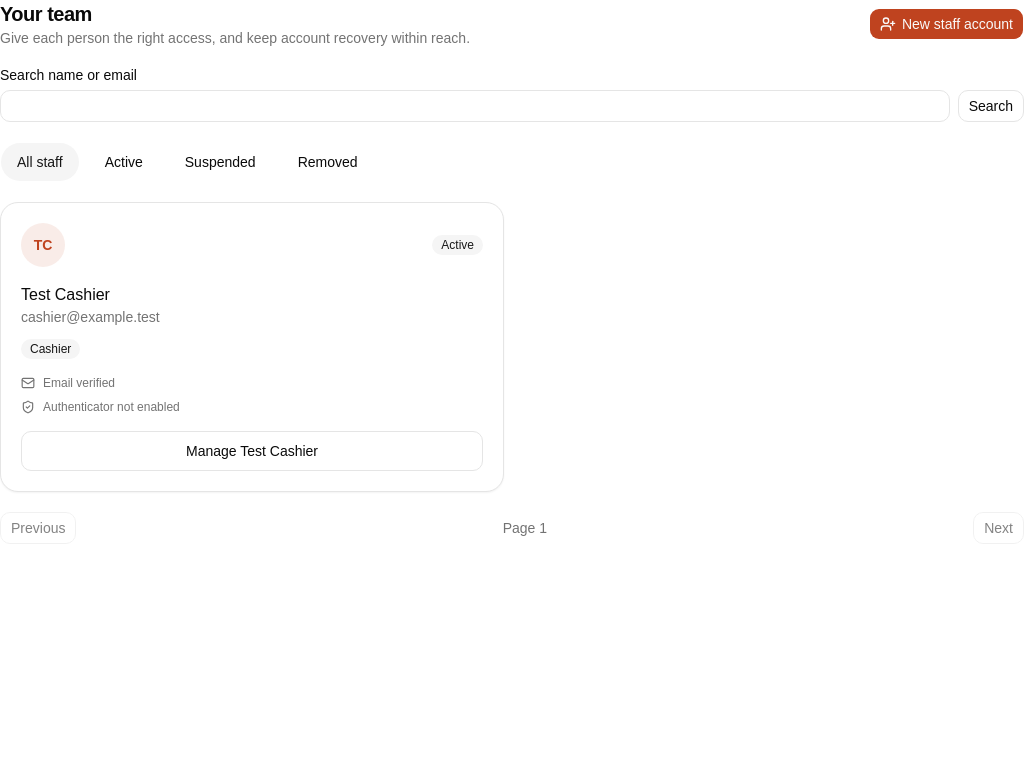
Scenario: requests a recovery link without sending an account update or claiming delivery
This screenshot has width=1024, height=768.
Click the button "Manage Test Cashier" at [252, 451], box [21,431,483,471]
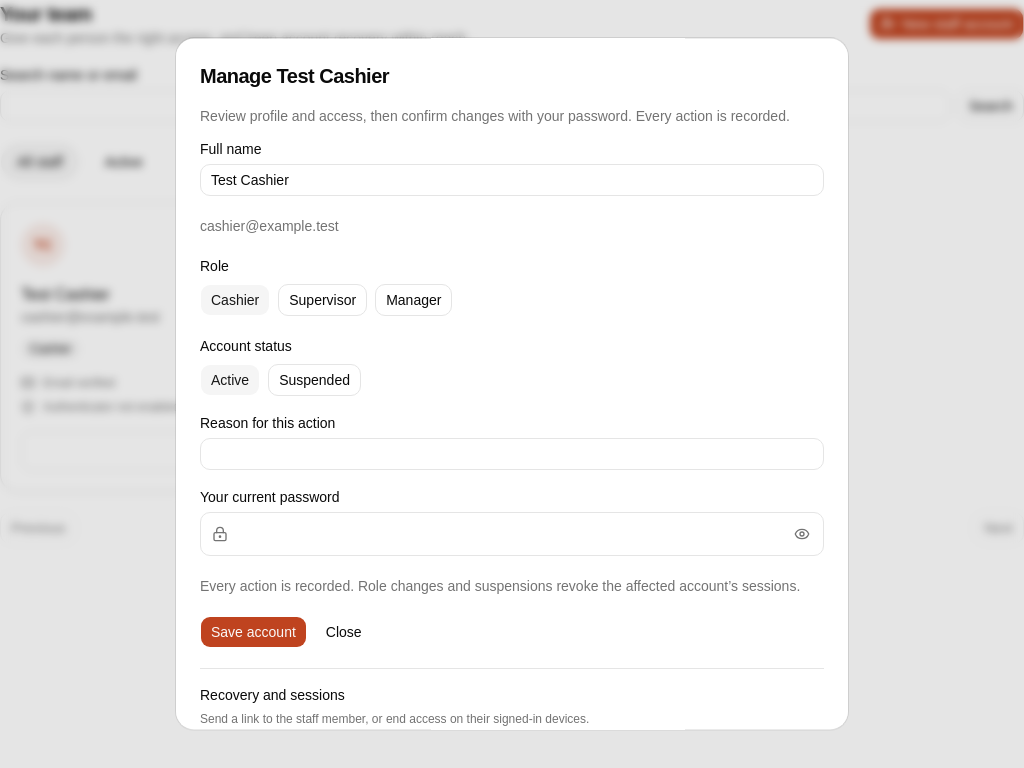
Type "Staff password recovery" into the field labelled "Reason for this action" at [512, 454], box [200,438,824,470]
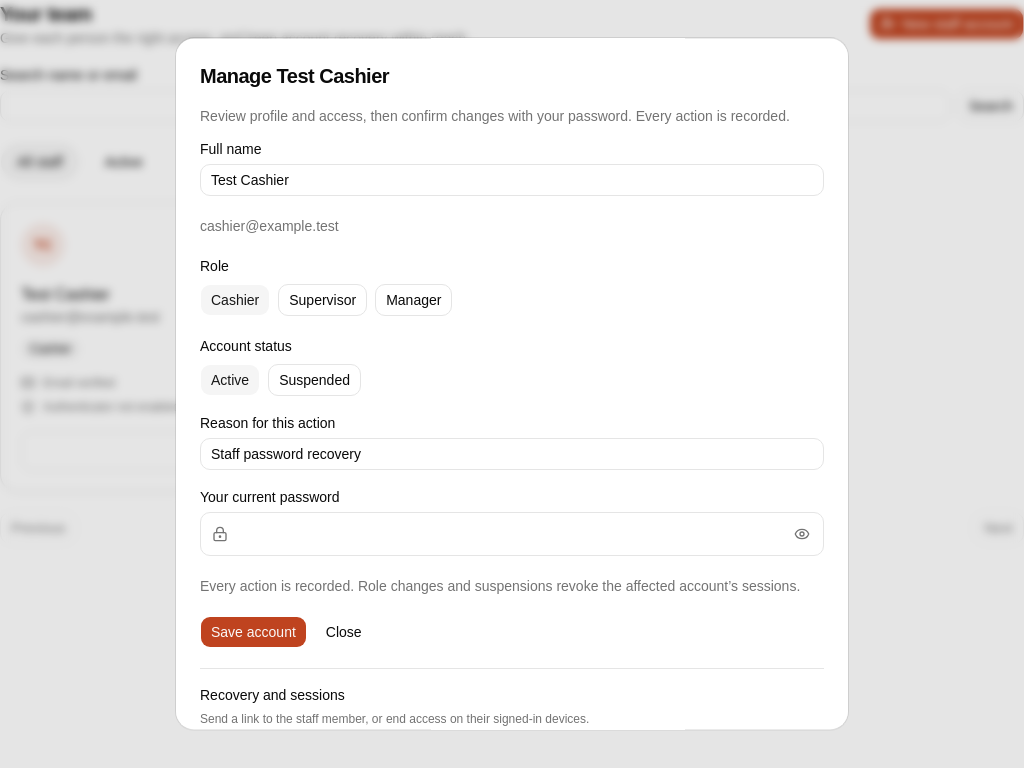
Type "test-only-admin-password" into the password field labelled "Your current password" at [512, 534], box [200,512,824,556]
(page scrolled)
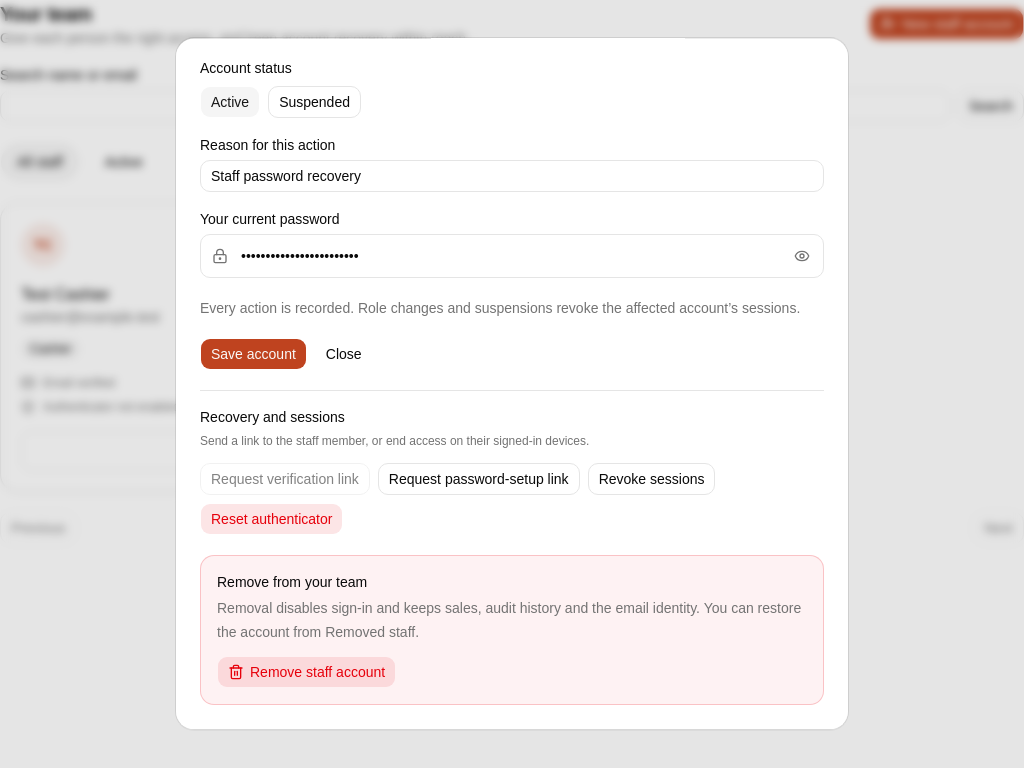
Click the button "Request password-setup link" at [479, 479], box [378,463,580,495]
(page scrolled)
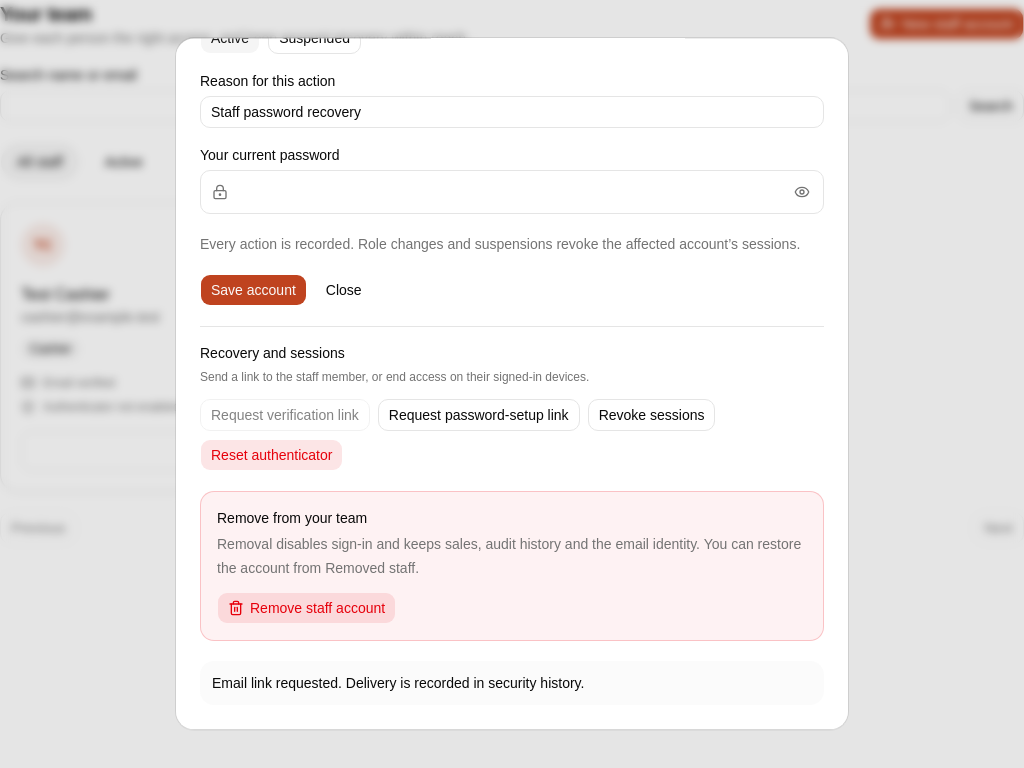
Result: the text "Email link requested. Delivery is recorded in security history." is shown at [200,661,824,705]
